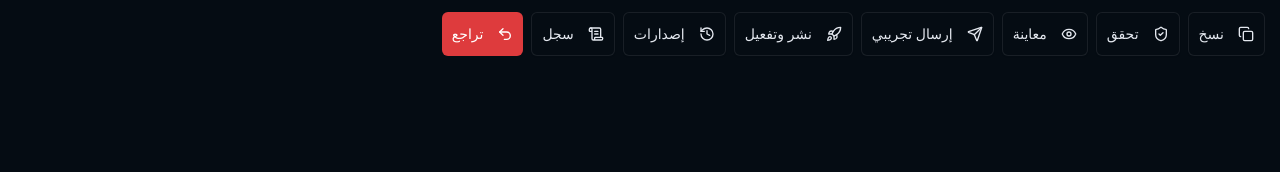
NotificationTemplateActions › فشل الشبكة يظهر رسالة عربية ولا يُسقط المكوّن
Click the button "معاينة": (1045, 34) [1002,12,1088,56]
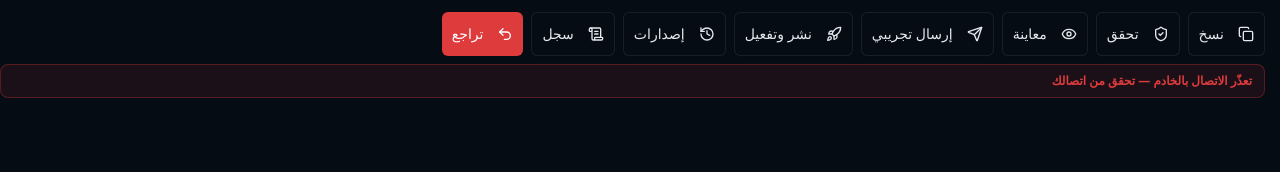
Expected: the button "نشر وتفعيل" is shown, [734,12,853,56]
Expected: the message "تعذّر الاتصال بالخادم — تحقق من اتصالك" is shown, [0,64,1265,98]
Expected: the message shows "تعذّر الاتصال", [1052,72,1252,89]
